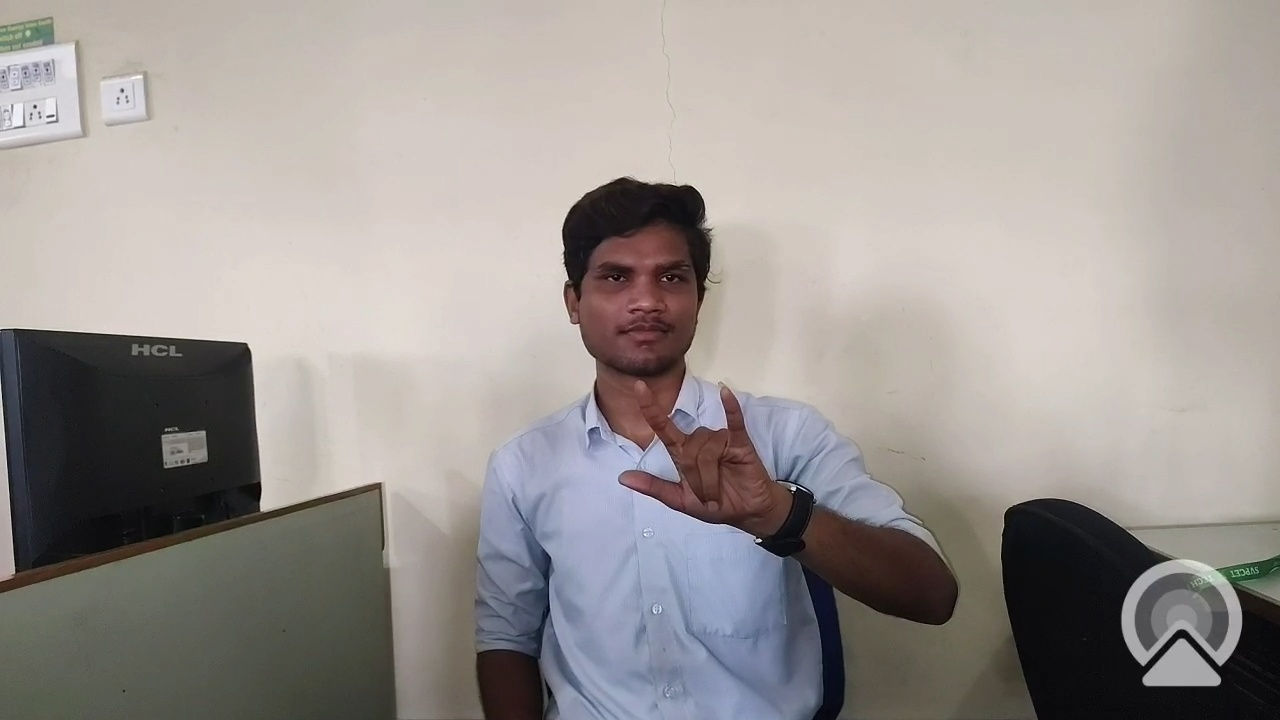I love you: (602, 363, 786, 545)
